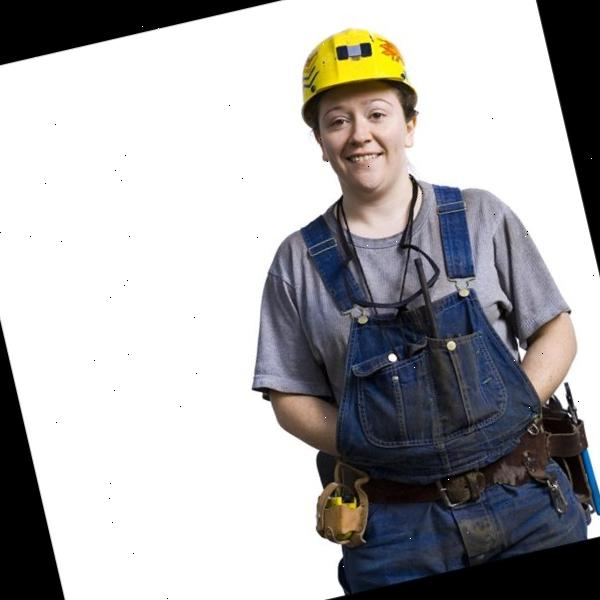helmet: (284, 17, 421, 122)
no_wear: (267, 186, 561, 512)
